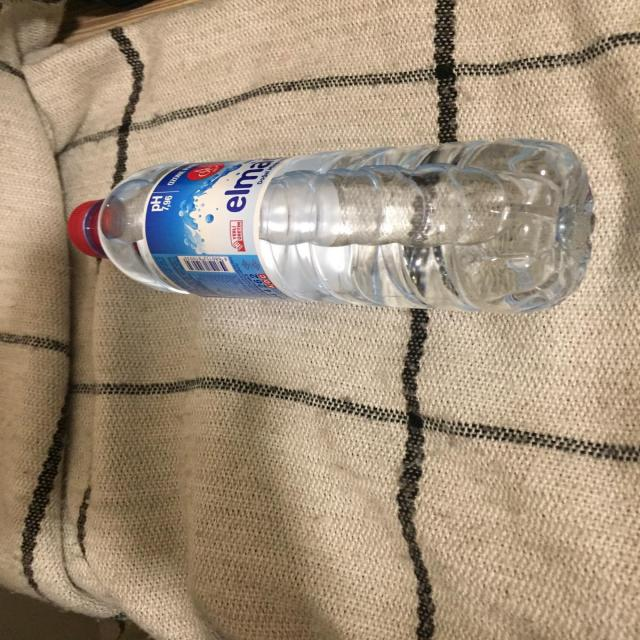bottle: (57, 130, 612, 322)
